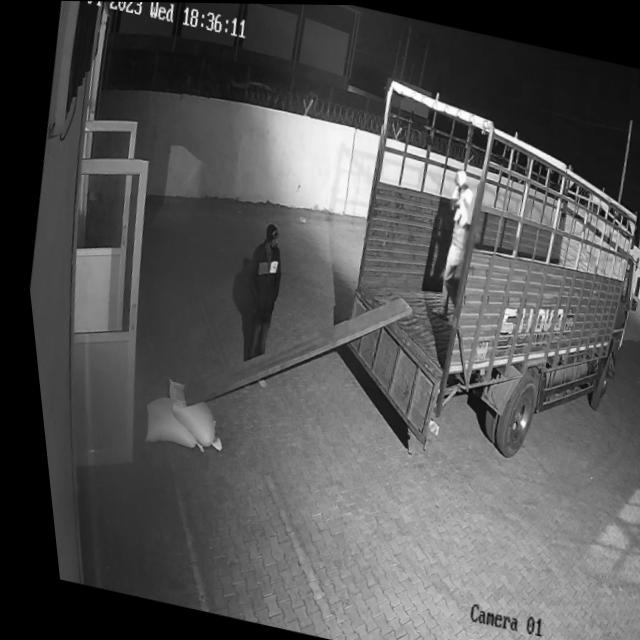sack: (146, 376, 224, 452), (130, 391, 201, 452)
